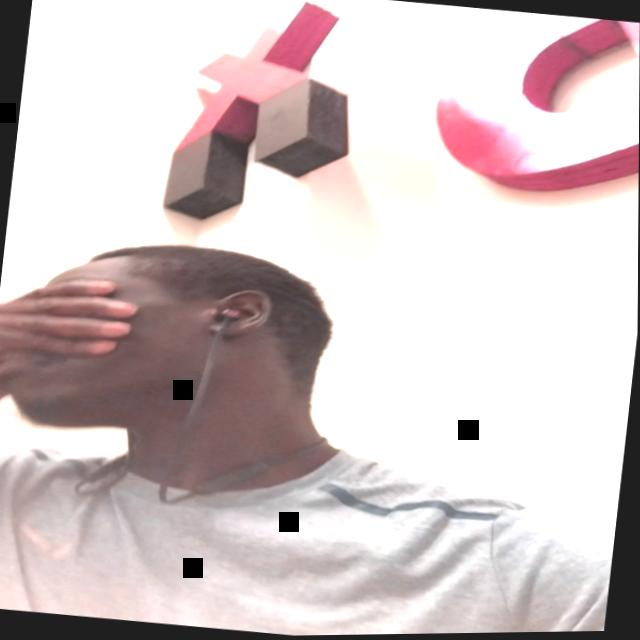NO-Mask: (0, 247, 245, 448)
